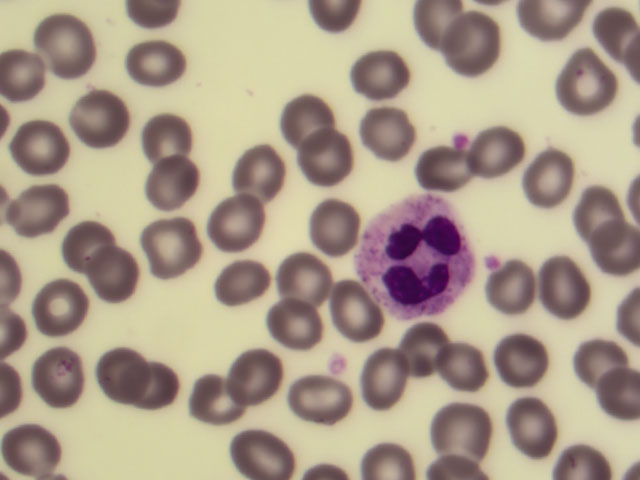Platelets: (327, 353, 349, 375), (448, 131, 468, 149), (484, 253, 501, 269)
RBC: (32, 13, 99, 79), (125, 29, 192, 95), (75, 82, 142, 148), (5, 114, 72, 180), (47, 202, 114, 268), (70, 237, 137, 303), (28, 275, 95, 341), (21, 336, 88, 402), (85, 342, 152, 408), (118, 351, 185, 417), (179, 369, 246, 435), (224, 338, 291, 404), (259, 293, 326, 359), (276, 240, 343, 306), (206, 242, 273, 308), (215, 197, 282, 263), (142, 211, 209, 277), (138, 149, 205, 215), (136, 110, 203, 176), (220, 135, 287, 201), (301, 126, 368, 192), (271, 91, 338, 157), (354, 103, 421, 169), (348, 45, 415, 111), (452, 17, 519, 83), (414, 1, 481, 67), (544, 44, 611, 110), (510, 141, 577, 207), (477, 125, 544, 191), (413, 147, 480, 213), (557, 173, 624, 239), (573, 207, 640, 273), (535, 250, 602, 316), (483, 266, 550, 332), (488, 326, 555, 392), (562, 320, 629, 386), (497, 392, 564, 458), (433, 391, 500, 457), (443, 342, 510, 408), (396, 316, 463, 382), (363, 347, 430, 413), (291, 378, 358, 444), (322, 277, 389, 343), (229, 414, 296, 480), (2, 414, 69, 480), (1, 171, 67, 237)
WBC: (360, 193, 476, 319)
